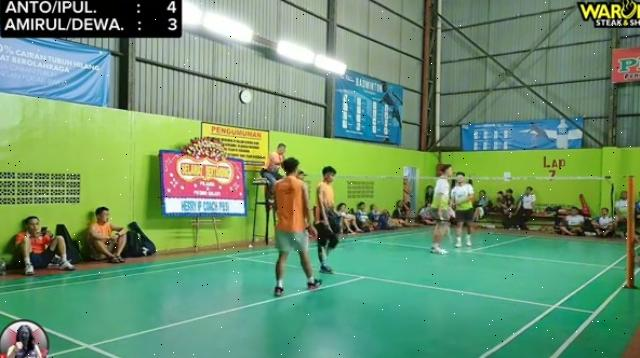Shuttlecock: (340, 212, 352, 220)
